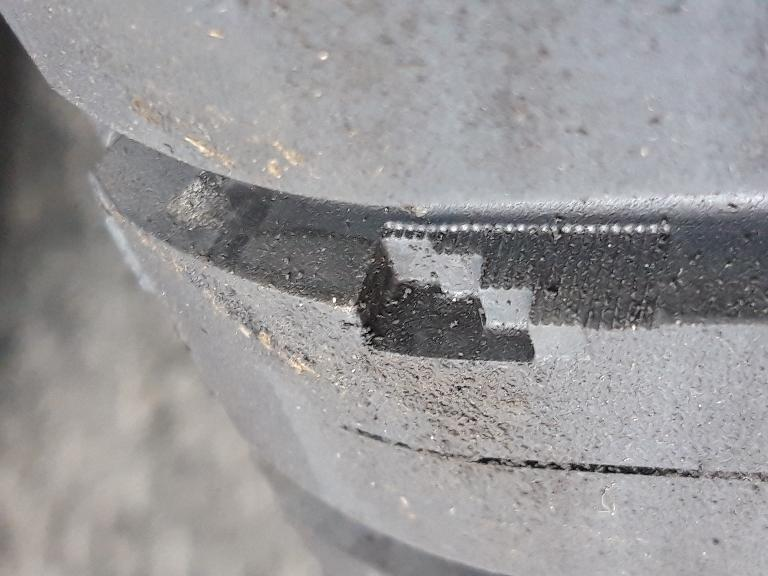temoin:75: (341, 213, 606, 374)
